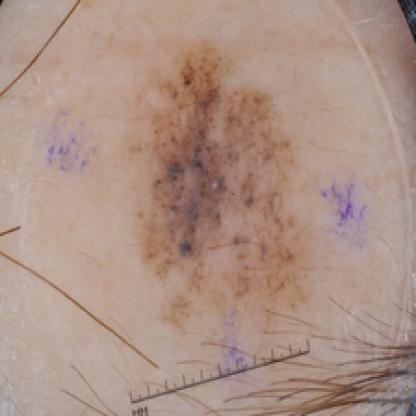malignant: (132, 60, 288, 292)
